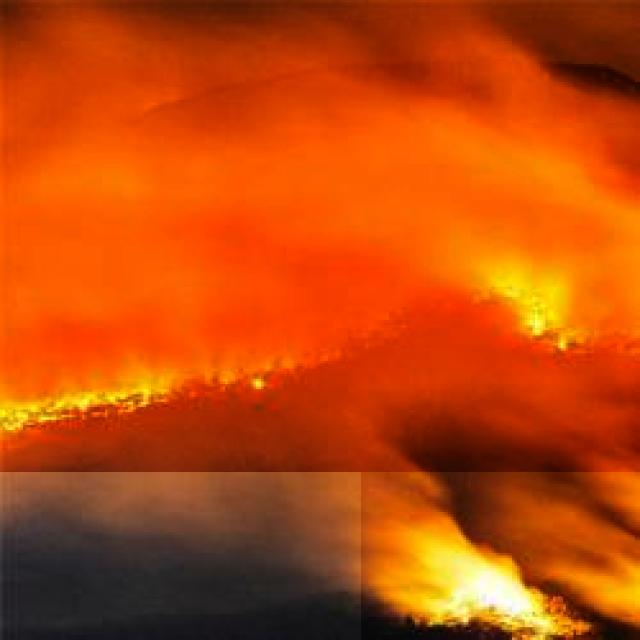Fire: (361, 458, 640, 640), (466, 248, 640, 400), (2, 364, 283, 434)
Smoke: (0, 0, 640, 472)
